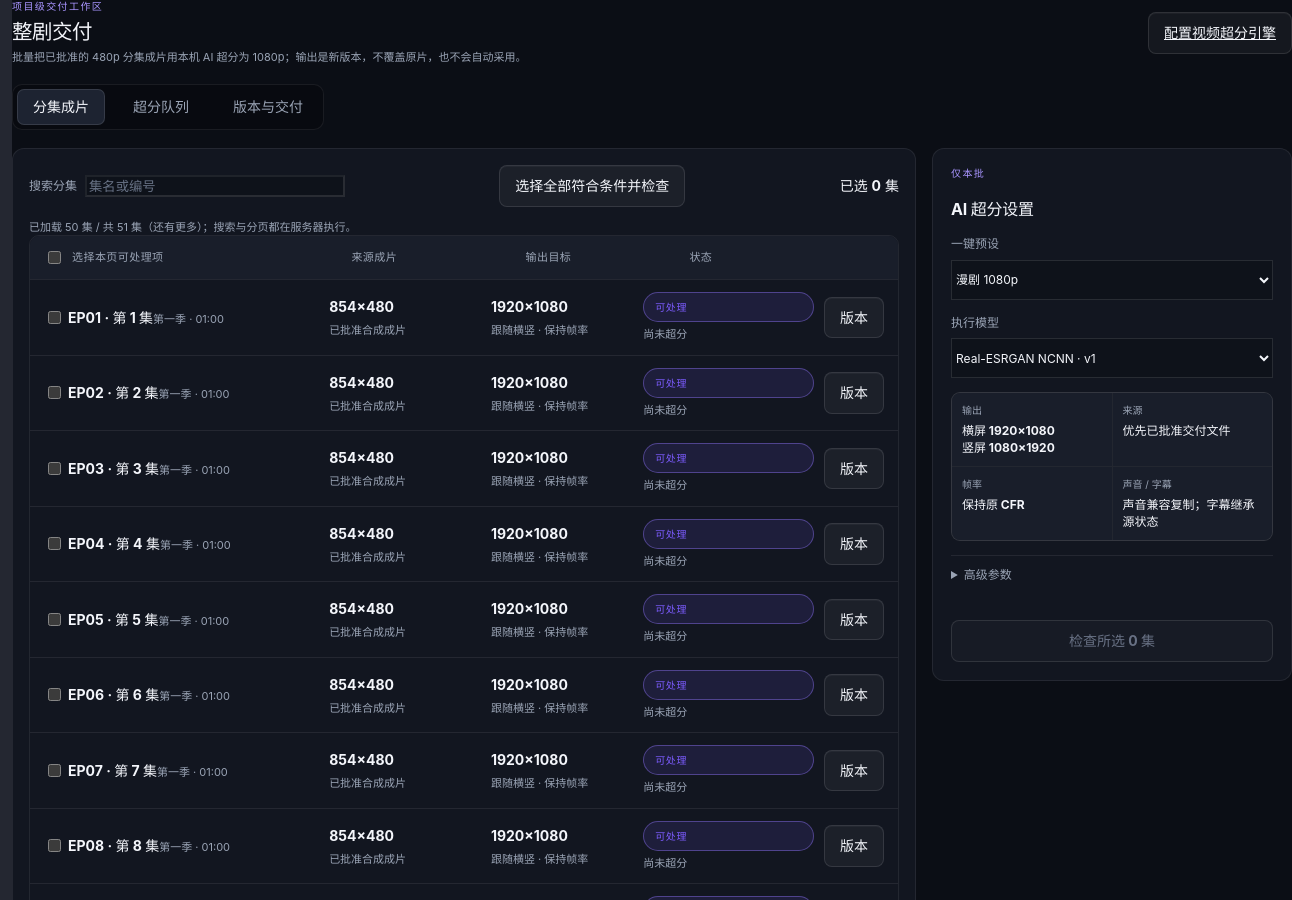
Scenario: ProjectDeliveryPage › pages through 51 delivery episodes, reports the server total, and keeps the selection across pages
Expected: the text "已加载 50 集 / 共 51 集（还有更多）；搜索与分页都在服务器执行。" is shown, [29,220,356,234]
# Cross-page selection: page-1 selection must survive loading page 2.
What coordinates should you click on to do the following:
click the checkbox named "第 1 集"
I would click on:
 (54, 317)
Its box is [48,311,61,324].
(page scrolled)
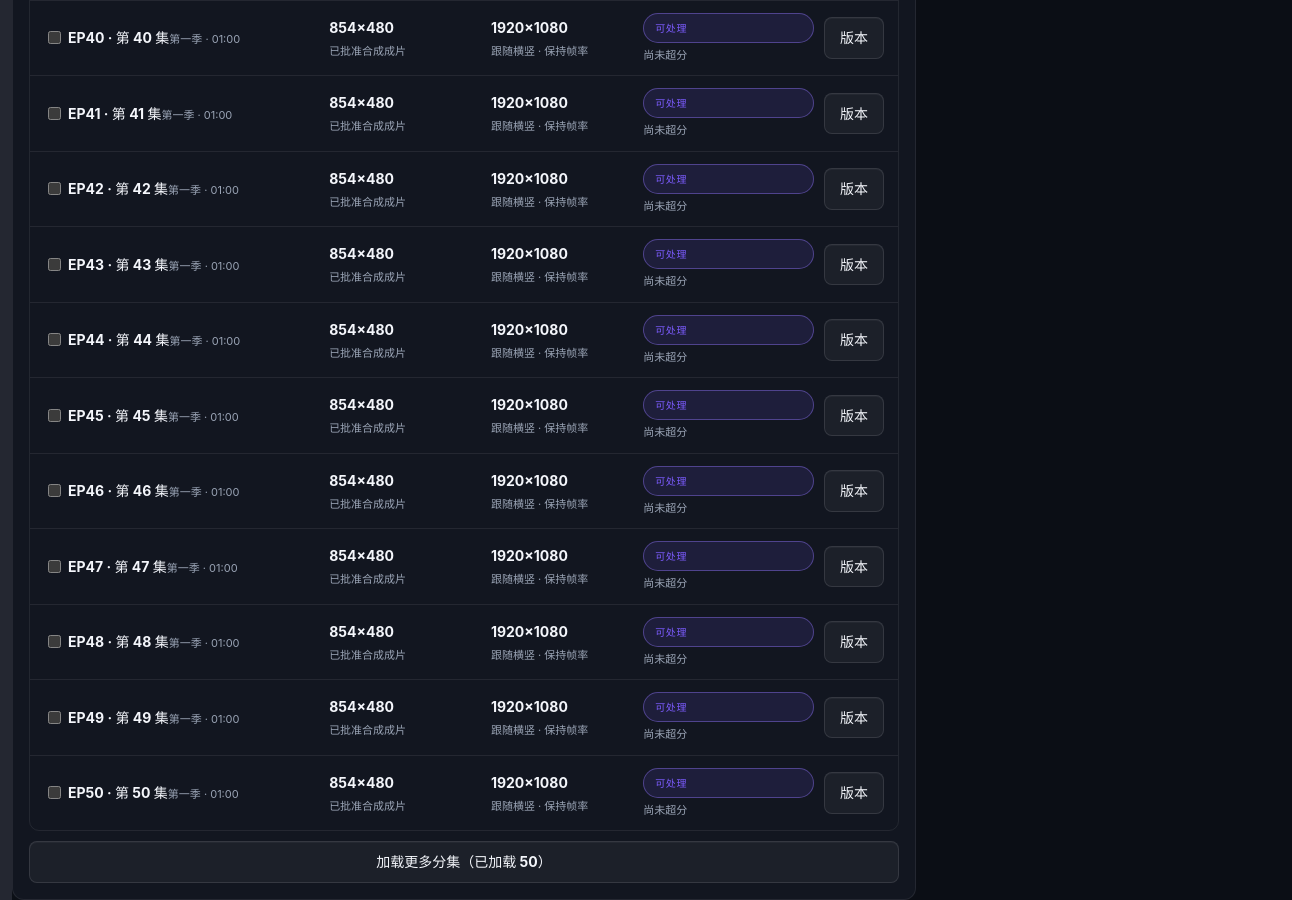
What coordinates should you click on to do the following:
click the button "加载更多分集（已加载 50）"
I would click on:
 (464, 862)
Its box is [29,841,899,883].
(page scrolled)
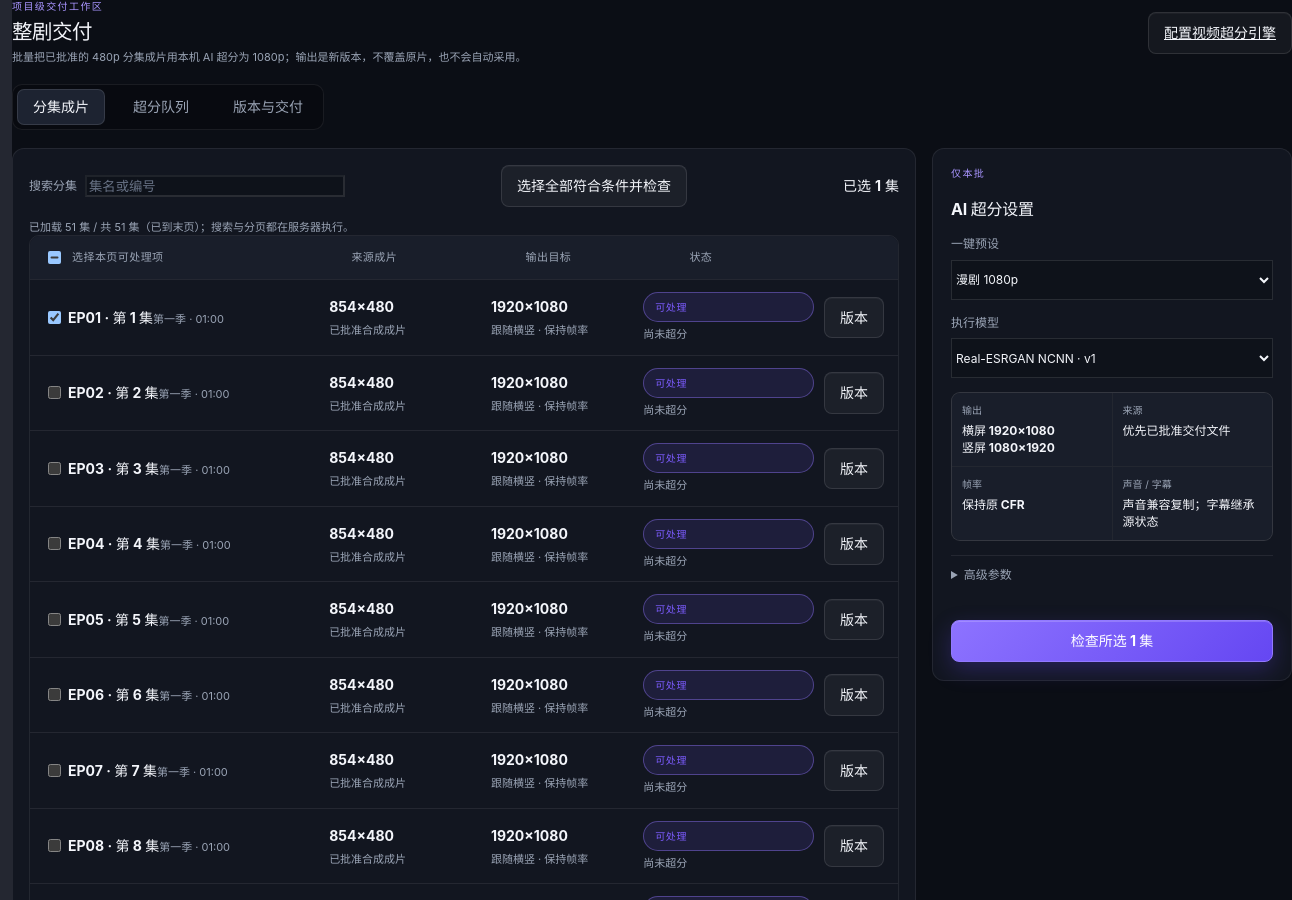
Result: the text "已选 1 集" is shown at [843,175,899,197]
Result: the text "已加载 51 集 / 共 51 集（已到末页）；搜索与分页都在服务器执行。" is shown at [29,220,354,234]
Result: the button "加载更多分集" is gone
